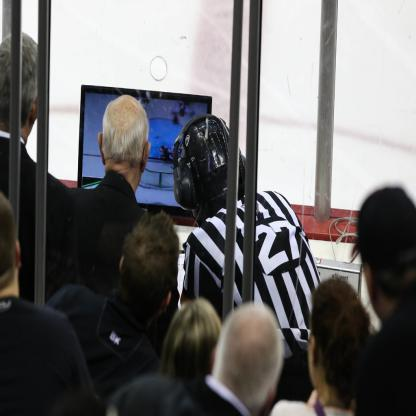Helmet: (168, 118, 228, 221)
